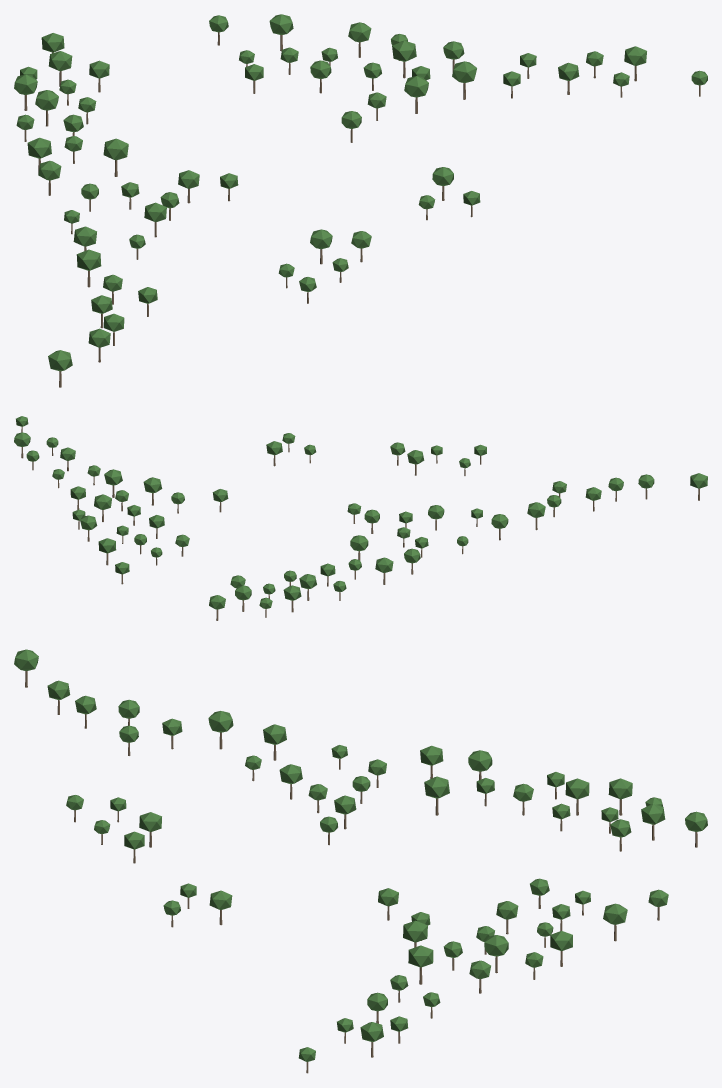
File: Pampulha_VEG_ARVORES_GRANDES.fbx
3 views of the same model, one above another, from view 1: azimuth 30°, elevation 25°; view 2: azimuth 150°, elevation 25°; view 3: azimuth 270°, elevation 25° (orthographic). The views are drawn at different scales.
Visible parts, largest first — view 1: Pampulha_VEG_ARVORES_GRANDES; view 2: Pampulha_VEG_ARVORES_GRANDES; view 3: Pampulha_VEG_ARVORES_GRANDES.
Part boxes in pixels (x1,y1,x2,y2): Pampulha_VEG_ARVORES_GRANDES: (14, 14, 707, 387); Pampulha_VEG_ARVORES_GRANDES: (14, 416, 707, 620); Pampulha_VEG_ARVORES_GRANDES: (14, 649, 707, 1073).
Size of the model in its own units: 346 by 15.79 by 257.
